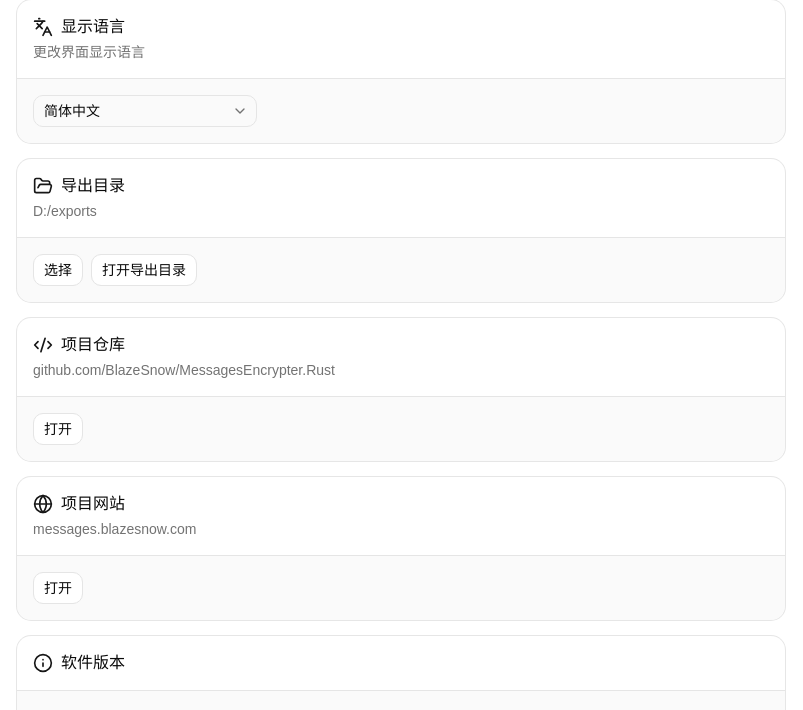
SettingsPage › 选择导出目录：写入设置并显示新目录
The width and height of the screenshot is (803, 710).
Expected: the text "D:/exports" is shown, [33,203,97,219]
Click the button "选择": (58, 270) [33,254,83,286]
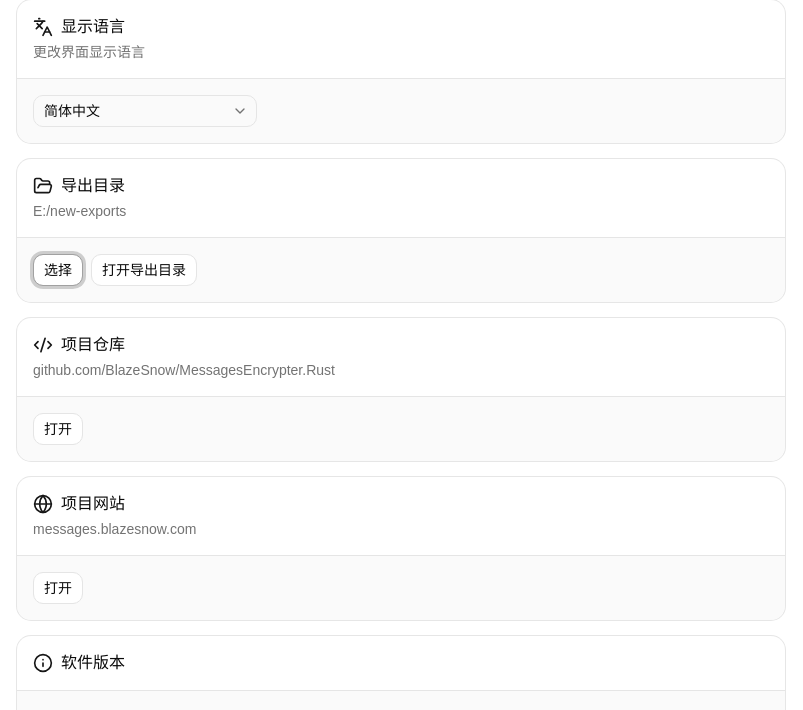
Now the text "E:/new-exports" is shown, box [33,203,126,219]
